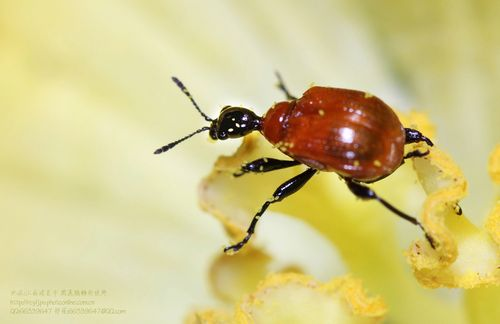Curculionidae: (151, 69, 439, 253)
